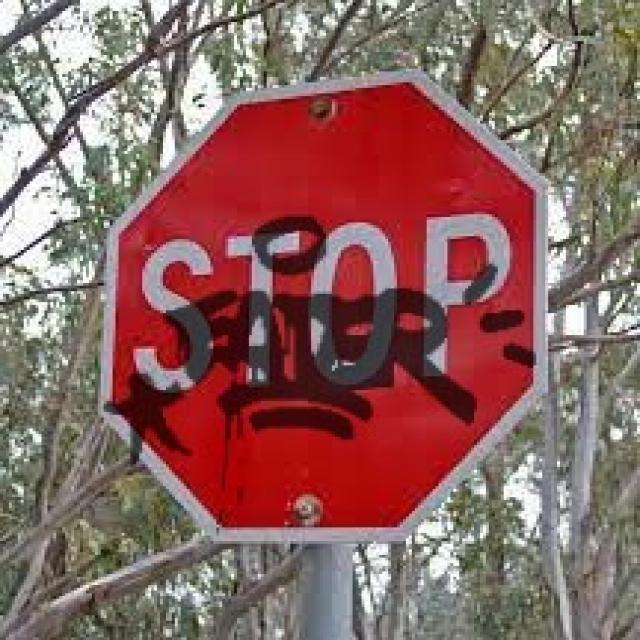Stop-Sign: (107, 95, 561, 542)
